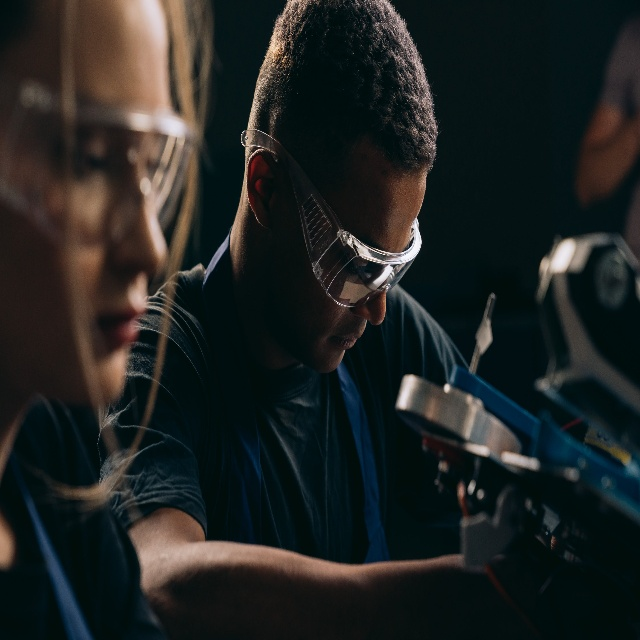Gafas: (4, 74, 199, 265), (238, 124, 423, 319)
